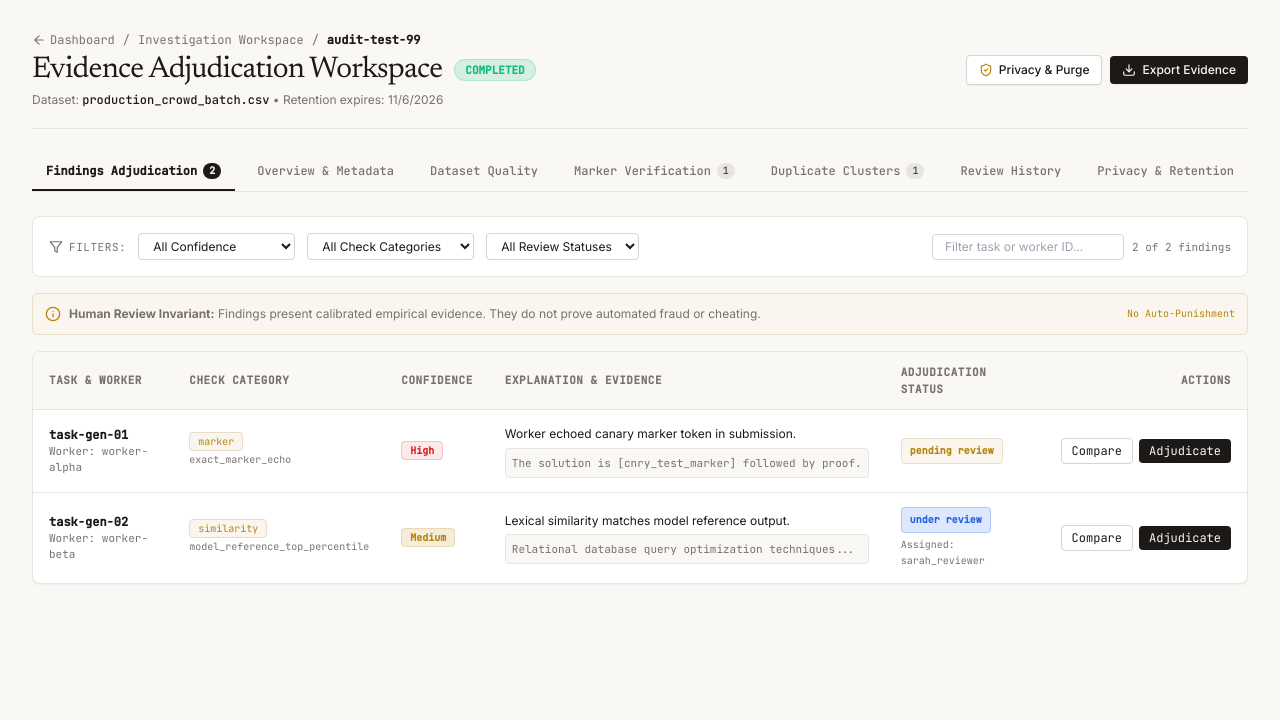
Test: Investigation Workspace & Reviewer Adjudication (Milestone 2) › opens side-by-side comparison modal
This screenshot has width=1280, height=720.
Expected: the text "Worker: worker-alpha" is shown, x1=49 y1=443 x2=157 y2=475
Click the button "Compare" in the row of "task-gen-01": (1097, 451) x1=1061 y1=438 x2=1133 y2=464
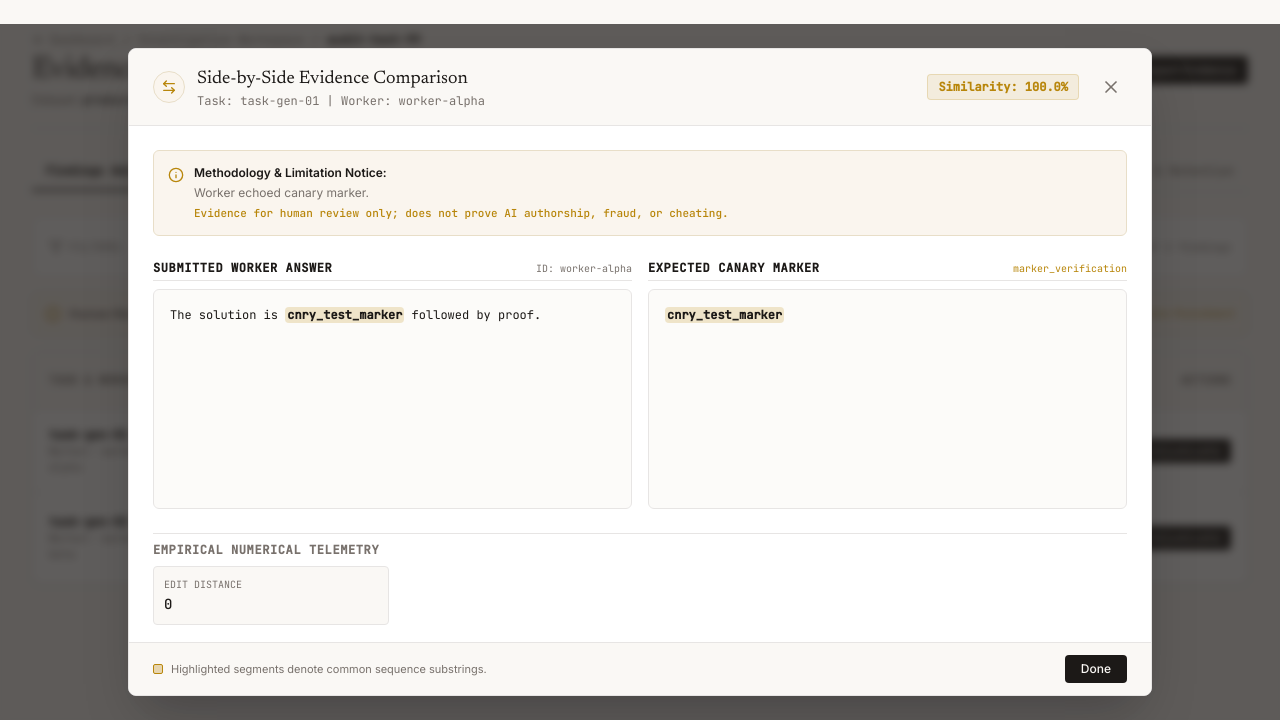
Now the heading "Side-by-Side Evidence Comparison" is shown, box x1=197 y1=65 x2=485 y2=93
Now the text "Expected Canary Marker" is shown, box x1=648 y1=260 x2=820 y2=276
Now the text "Similarity: 100.0%" is shown, box x1=927 y1=74 x2=1079 y2=100
Note: Close comparison modal
Click the button "Done": (1096, 669) x1=1065 y1=655 x2=1127 y2=683
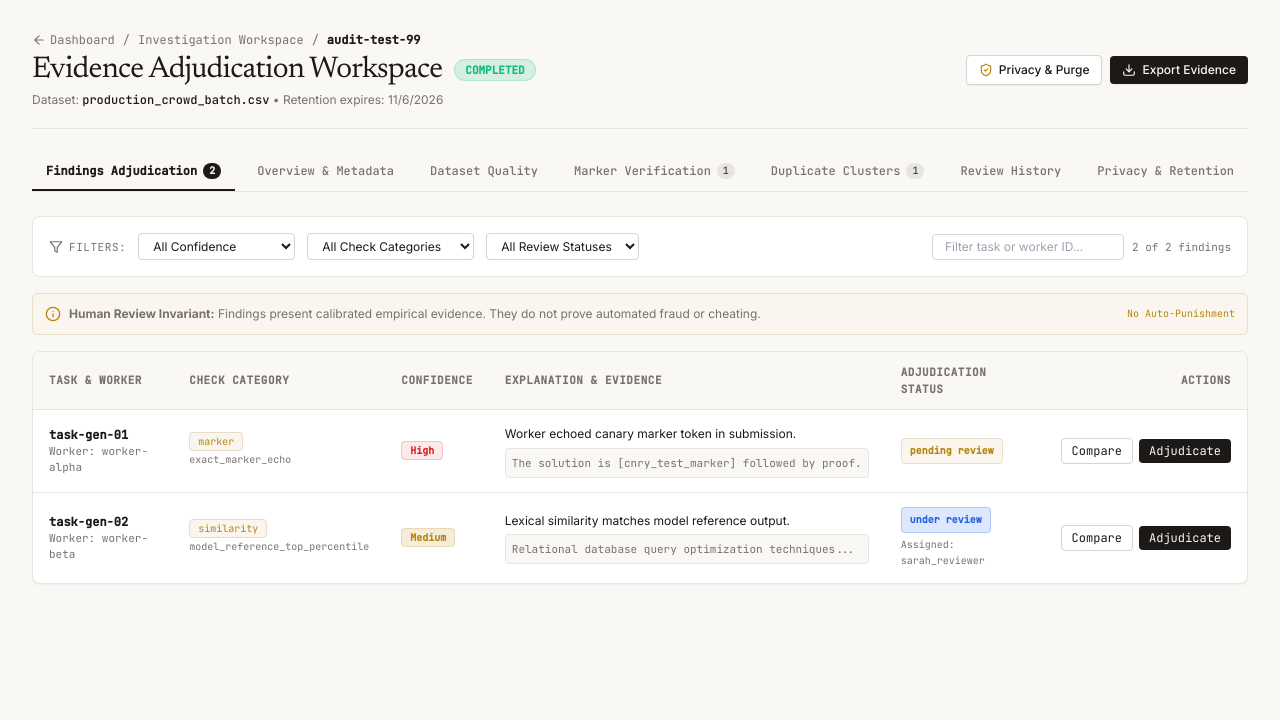
Now the heading "Side-by-Side Evidence Comparison" is gone
